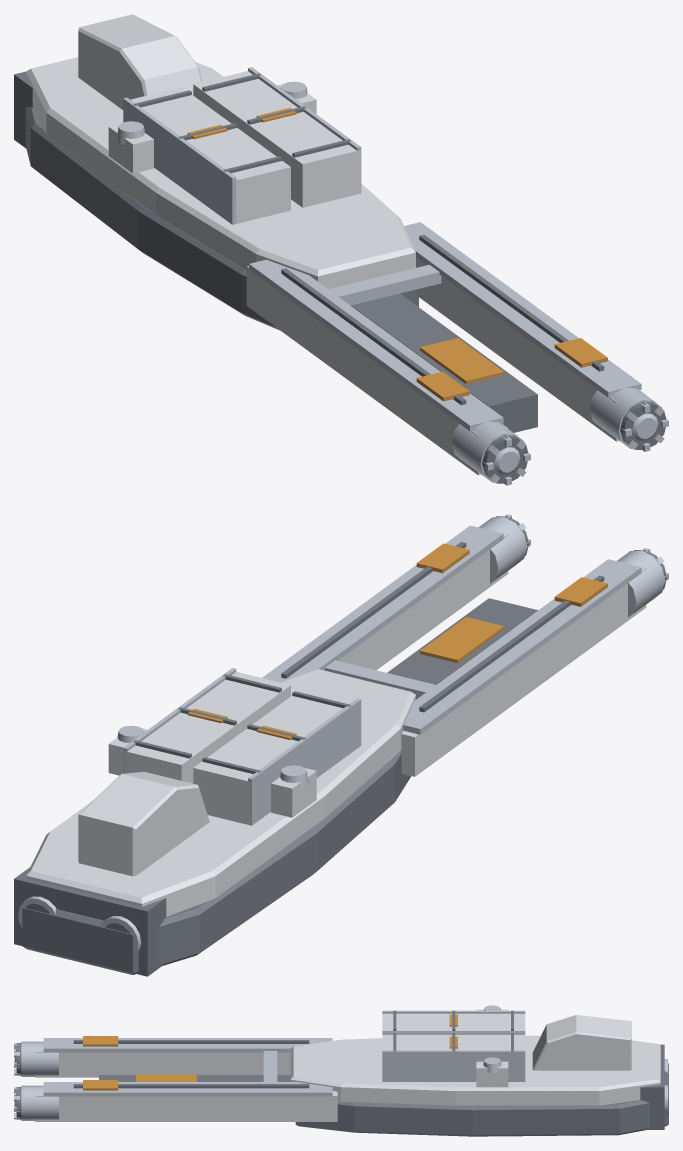
File: miner_quarry.glb
3 renders of one model, top to bottom at view 1: azimuth 30°, elevation 25°; view 2: azimuth 150°, elevation 25°; view 3: azimuth 270°, elevation 25°, orthographic. The views are drawn at different scales.
Parts seen in each view (by area): view 1: miner_quarry_mesh; view 2: miner_quarry_mesh; view 3: miner_quarry_mesh.
Part boxes in pixels (bbox=[...]): miner_quarry_mesh: bbox=[14, 14, 668, 485]; miner_quarry_mesh: bbox=[14, 514, 668, 976]; miner_quarry_mesh: bbox=[14, 1005, 668, 1136].
Bounding box in the file's own units: 8.46 × 5.65 × 38.95.
